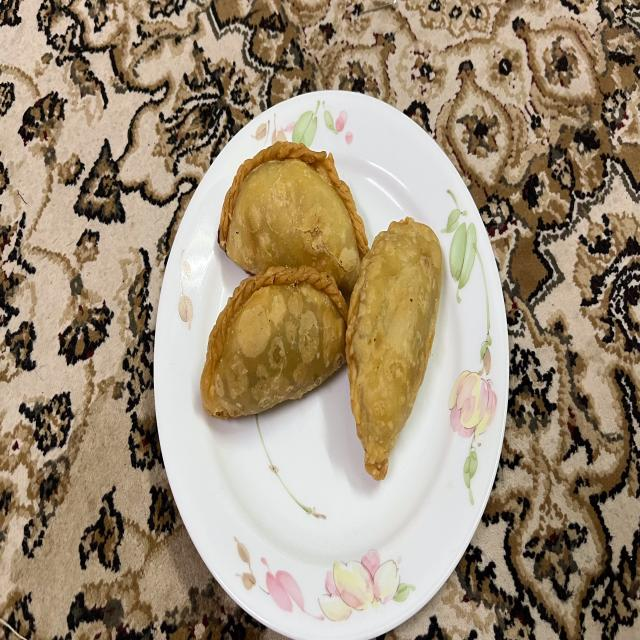karipap: (346, 218, 442, 480), (219, 140, 369, 296), (201, 267, 348, 418)
